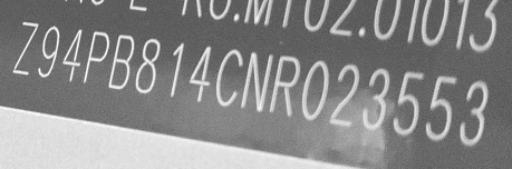letter: (423, 73, 457, 140), (358, 65, 392, 128), (239, 51, 275, 110), (458, 79, 490, 144), (268, 55, 302, 116), (299, 58, 331, 121), (392, 70, 424, 133), (329, 63, 359, 128), (214, 48, 242, 107), (108, 33, 136, 88), (134, 38, 162, 93), (82, 31, 110, 83), (12, 19, 38, 74), (187, 45, 213, 100), (165, 40, 187, 99), (37, 25, 61, 77), (62, 27, 84, 80)
